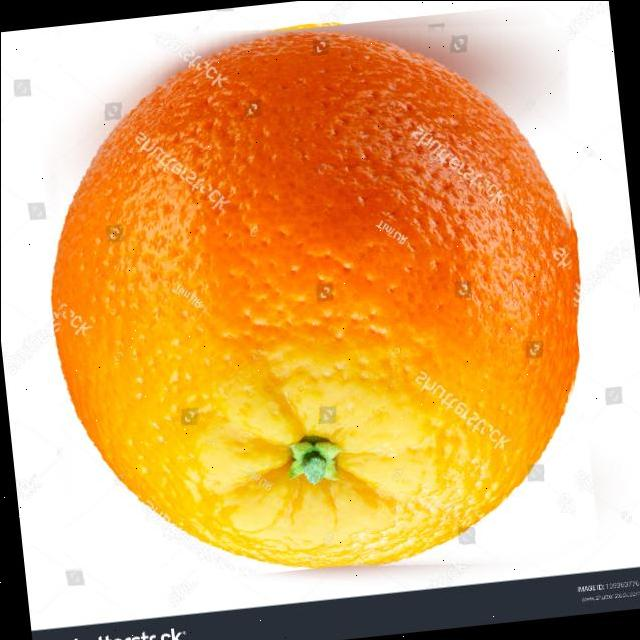Orange: (49, 28, 582, 570)
